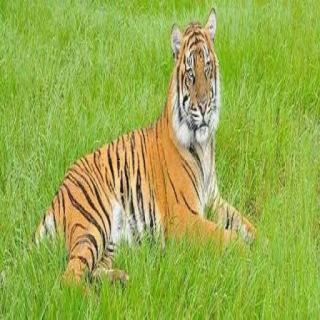Tiger: (2, 0, 249, 320)
